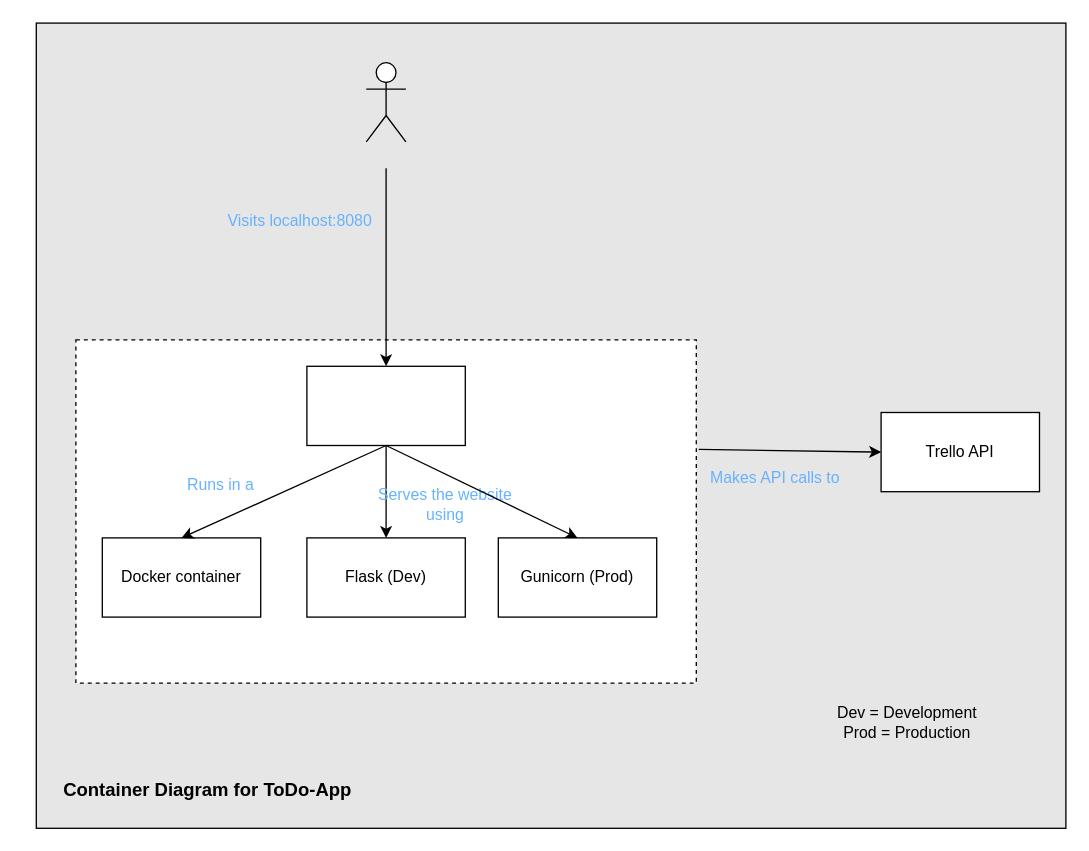
This 1089x851 diagram has some shape labels left out. The box of each missing label's shape, as (x1, y1, x2, y2) in pixels:
User: (365, 61, 406, 142)
Web Application: (306, 365, 465, 446)
